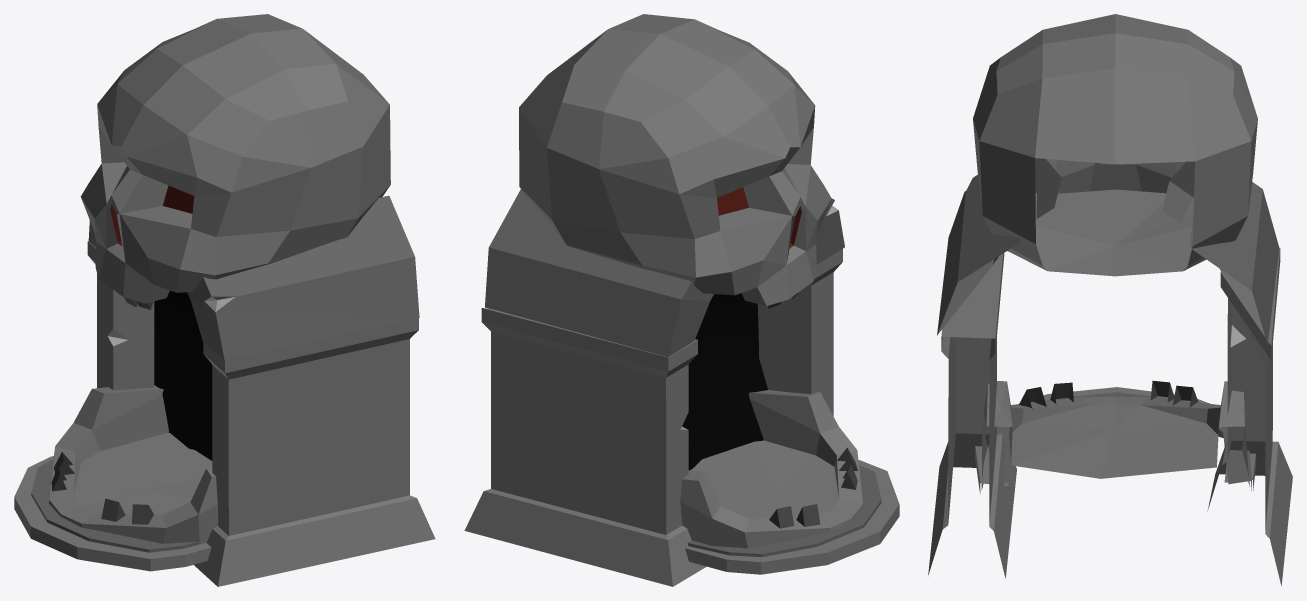
The model's file is Cave.FBX.
The picture shows the model from 3 angles, left to right: view 1: azimuth 30°, elevation 25°; view 2: azimuth 150°, elevation 25°; view 3: azimuth 270°, elevation 25°; orthographic projection. The views are drawn at different scales.
Visible parts, largest first — view 1: TheCave_xD; view 2: TheCave_xD; view 3: TheCave_xD.
Part boxes in pixels (left/top/right/bottom): TheCave_xD: left=14, top=14, right=435, bottom=586; TheCave_xD: left=464, top=14, right=899, bottom=586; TheCave_xD: left=928, top=14, right=1292, bottom=586.
Bounding box in the file's own units: 27.7 × 36.64 × 24.55.
